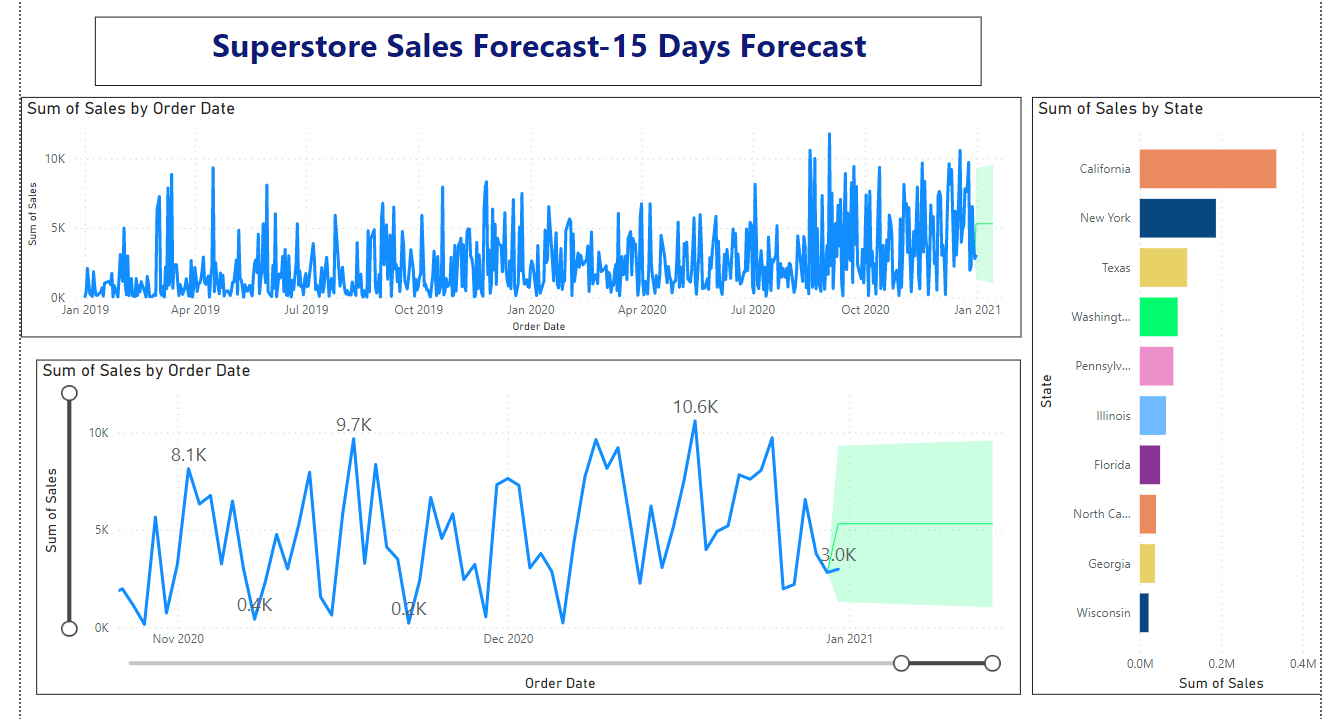

The dashboard page shown, as its layout file describes it:
{"tool":"powerbi","page":{"name":"Page 2","canvas":[1280,720],"ordinal":1},"visuals":[{"type":"lineChart","fields":{"Y":["Sum(SuperStore_Sales_Dataset.Sales)"],"Category":["SuperStore_Sales_Dataset.Order Date"]},"box":[15.6,359.8,970.4,330.1],"z":0},{"type":"lineChart","fields":{"Y":["Sum(SuperStore_Sales_Dataset.Sales)"],"Category":["SuperStore_Sales_Dataset.Order Date"]},"box":[0,100.6,986,236.6],"z":1000},{"type":"textbox","box":[72.3,21.3,874.1,68],"z":2000},{"type":"barChart","fields":{"Category":["SuperStore_Sales_Dataset.State"],"Y":["Sum(SuperStore_Sales_Dataset.Sales)"]},"box":[995.9,100.6,284.8,589.3],"z":3000}]}

Visuals, with their boxes in screenshot pixels (x1, y1, x2, y2):
lineChart - Sum(SuperStore_Sales_Dataset.Sales) x SuperStore_Sales_Dataset.Order Date: x1=26, y1=357, x2=1017, y2=694
lineChart - Sum(SuperStore_Sales_Dataset.Sales) x SuperStore_Sales_Dataset.Order Date: x1=10, y1=92, x2=1017, y2=334
textbox: x1=84, y1=11, x2=977, y2=81
barChart - SuperStore_Sales_Dataset.State x Sum(SuperStore_Sales_Dataset.Sales): x1=1027, y1=92, x2=1318, y2=694
